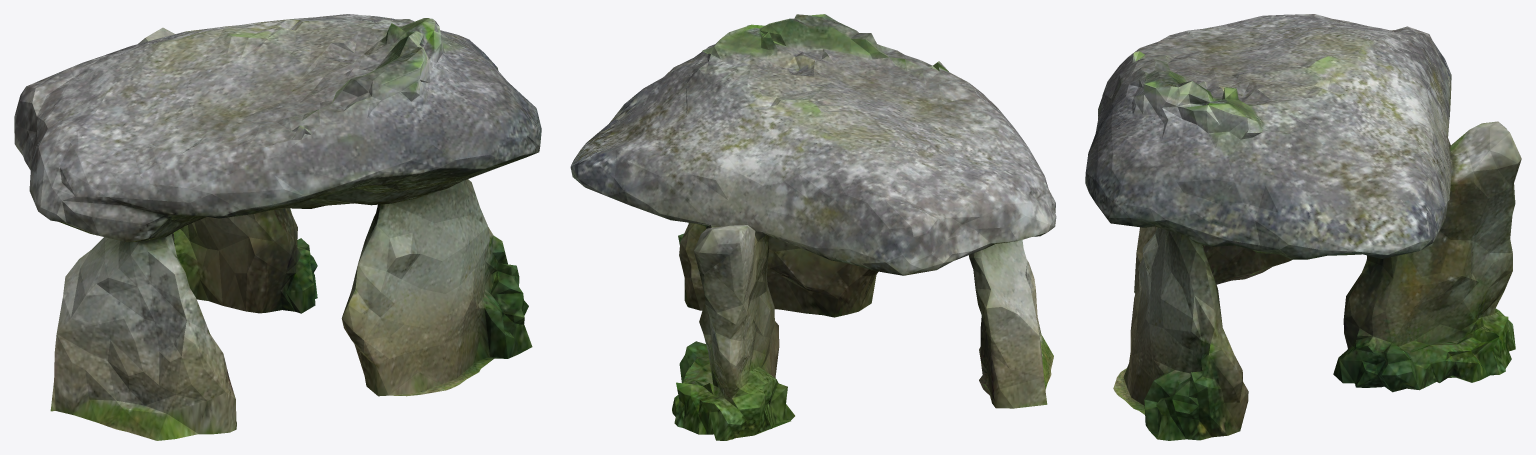
Rendered from dolmen_03.glb.
3 renders of one model, left to right at view 1: azimuth 30°, elevation 25°; view 2: azimuth 150°, elevation 25°; view 3: azimuth 270°, elevation 25°, orthographic. The views are drawn at different scales.
Visible parts, largest first — view 1: FBX_Dolmen_Hijo(Clone)_0; view 2: FBX_Dolmen_Hijo(Clone)_0; view 3: FBX_Dolmen_Hijo(Clone)_0.
Boxes of the visible parts, left/top/right/bottom form: FBX_Dolmen_Hijo(Clone)_0: left=14, top=14, right=541, bottom=440; FBX_Dolmen_Hijo(Clone)_0: left=570, top=14, right=1056, bottom=440; FBX_Dolmen_Hijo(Clone)_0: left=1085, top=14, right=1521, bottom=440.
Size of the model in its own units: 30 by 19.74 by 25.26.
Materials: 1 (1 with a texture image).
